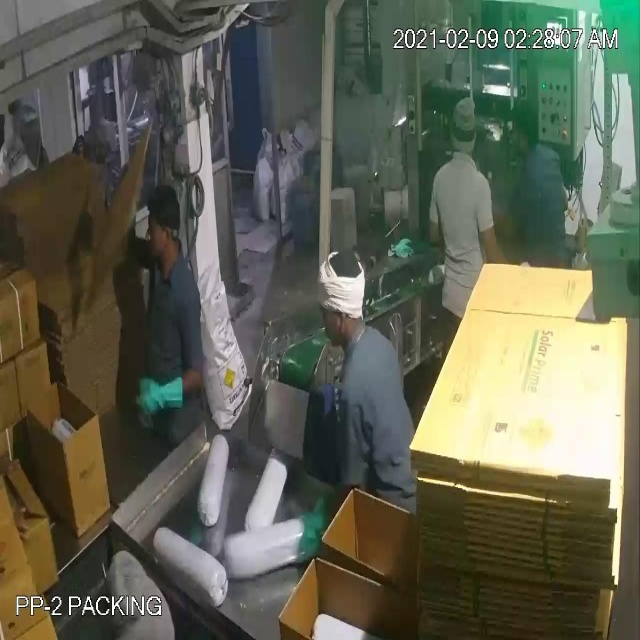Guantes: (133, 366, 193, 426), (298, 492, 341, 564)
